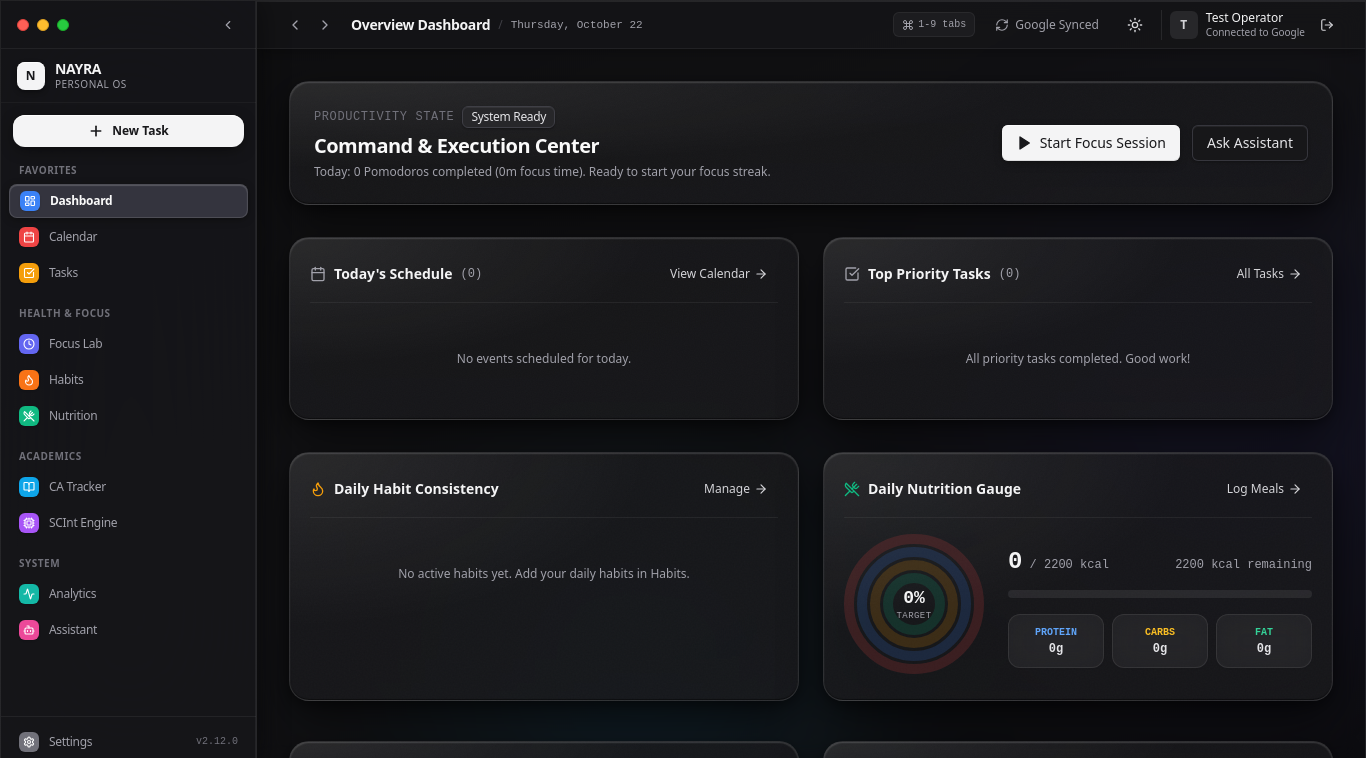
Test: Focus & Pomodoro Timer Bugfix & Analytics Integrity Tests › does not log completed sessions when mounting with stale expired localStorage timer
# Navigate to Analytics
Step 1. Click the text "Analytics" → (73, 594), box [49, 585, 96, 602]
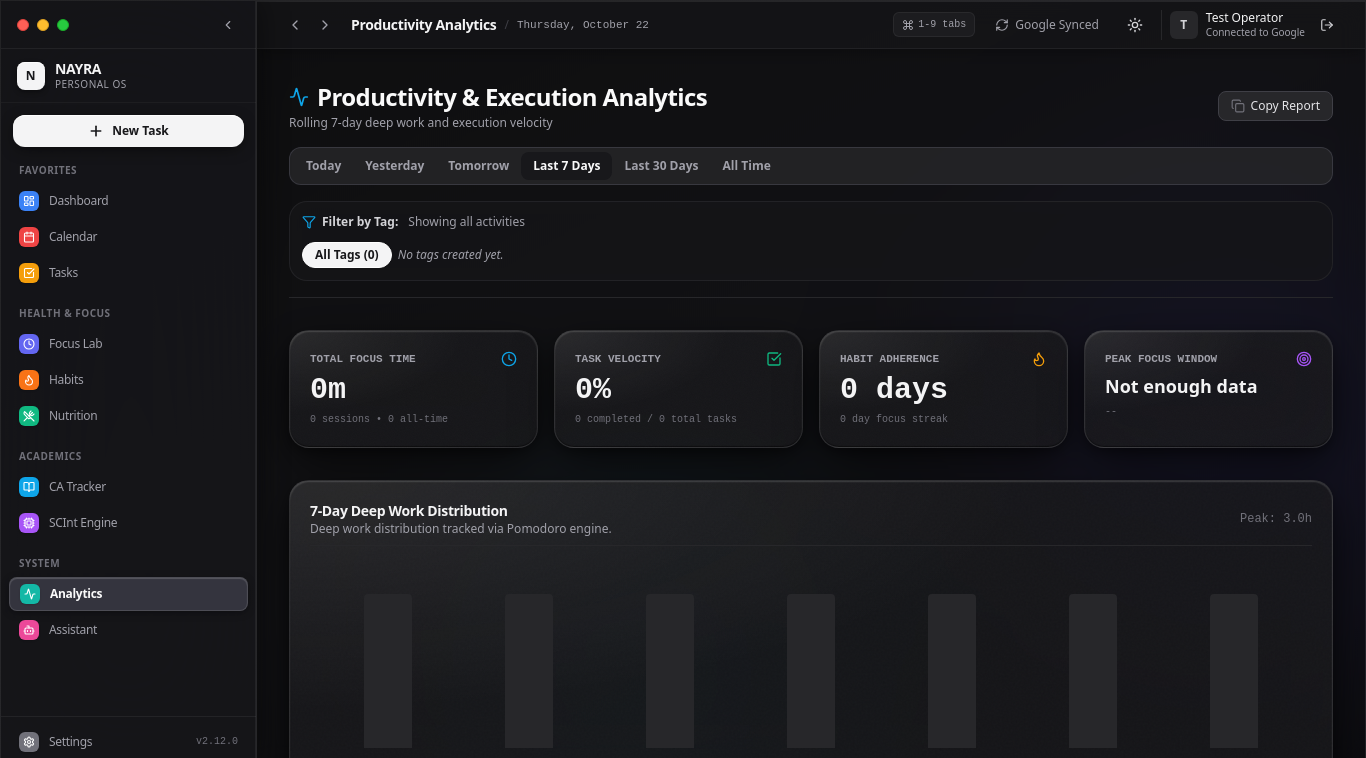
Expected: the text "0m" is shown, [310, 372, 346, 408]
Now the text "Productivity & Execution Analytics" is shown, box [317, 81, 707, 113]
Now the text "Total Focus Time" is shown, box [310, 351, 416, 368]
